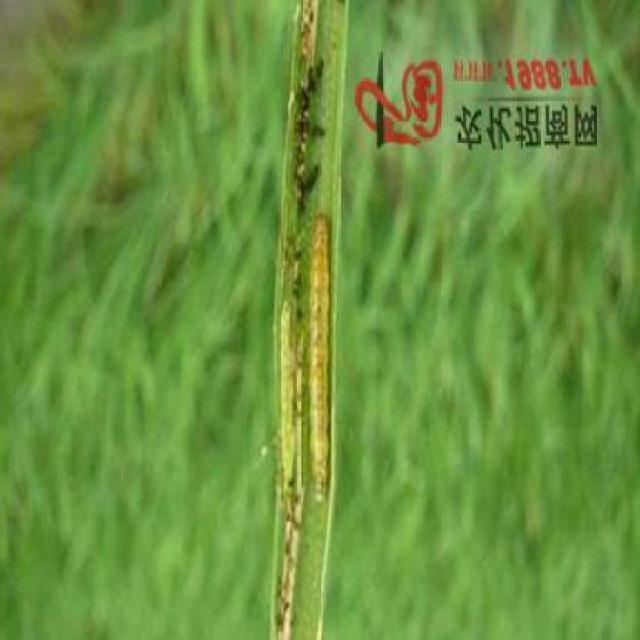leaf-folder: (297, 198, 352, 532)
